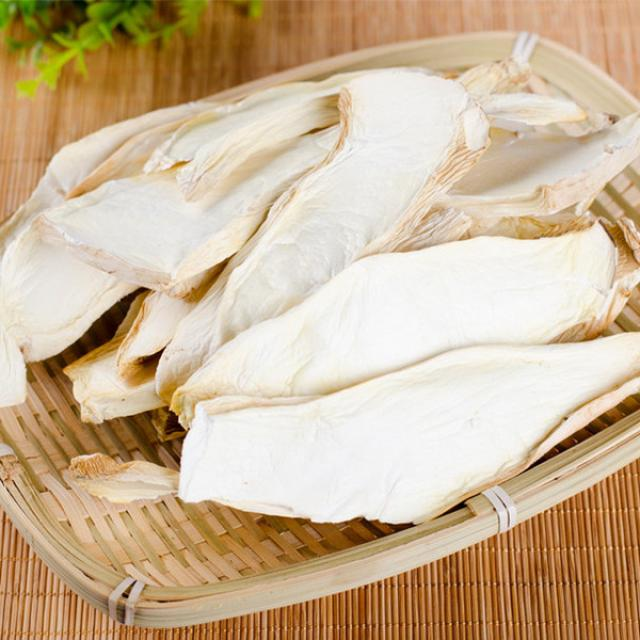Pleurotus eryngii: (161, 335, 640, 525), (154, 222, 626, 396)
